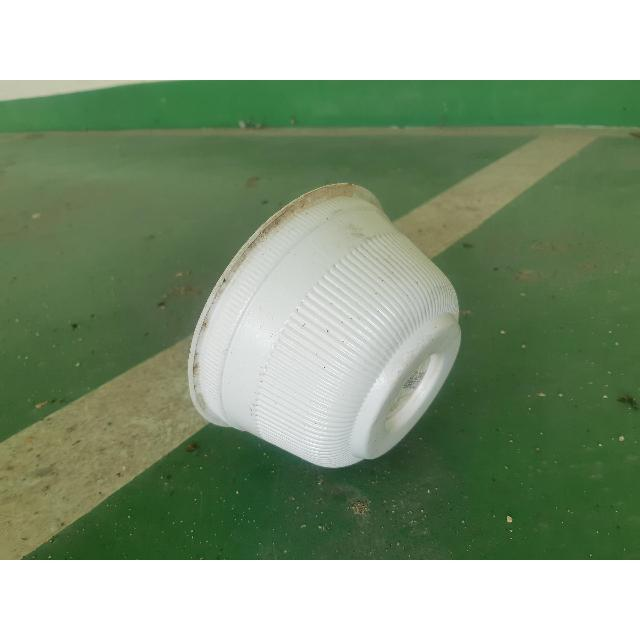Plastico descartable: (186, 183, 463, 472)
